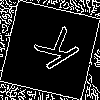K: (25, 25, 82, 78)
